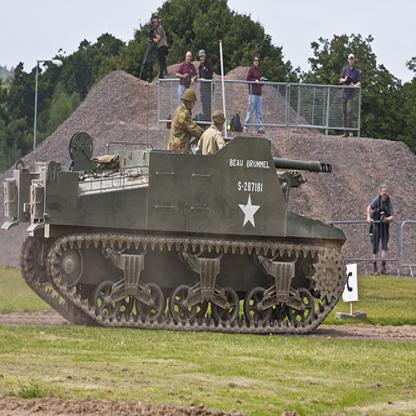Tank: (5, 87, 358, 336)
